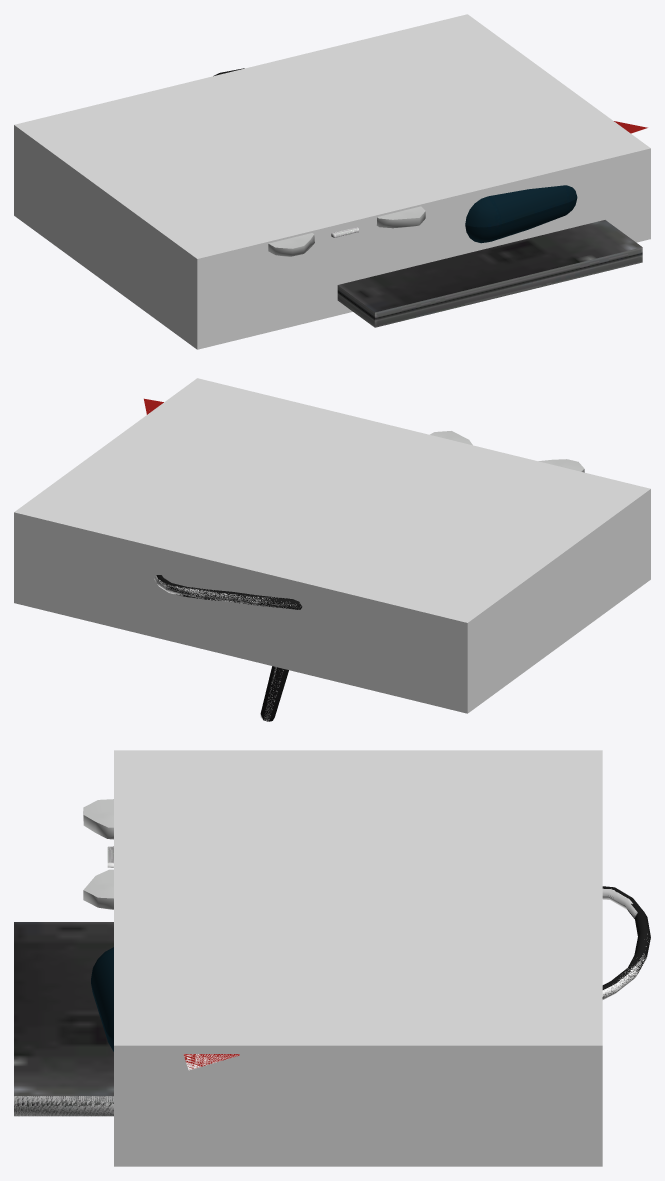
Rendered from pku_blade_pocket_emp.glb.
The picture shows the model from 3 angles, top to bottom: view 1: azimuth 30°, elevation 25°; view 2: azimuth 150°, elevation 25°; view 3: azimuth 270°, elevation 25°; orthographic projection. The views are drawn at different scales.
Visible parts, largest first — view 1: c_box, g_screen, g_sticky; view 2: c_box, g_cable, o_outline, g_antena, g_sticky; view 3: c_box, g_screen, o_outline, g_sticky, g_cable.
Part boxes in pixels (x1=…): c_box: x1=14, y1=14, x2=650, y2=349; g_screen: x1=337, y1=185, x2=642, y2=327; g_sticky: x1=268, y1=206, x2=425, y2=256; c_box: x1=14, y1=378, x2=650, y2=713; g_cable: x1=156, y1=575, x2=302, y2=609; o_outline: x1=154, y1=575, x2=300, y2=721; g_antena: x1=260, y1=666, x2=288, y2=721; g_sticky: x1=430, y1=431, x2=584, y2=472; c_box: x1=114, y1=750, x2=602, y2=1166; g_screen: x1=14, y1=922, x2=113, y2=1116; o_outline: x1=14, y1=847, x2=648, y2=1116; g_sticky: x1=83, y1=799, x2=113, y2=909; g_cable: x1=602, y1=886, x2=650, y2=998.
Size of what is drawn, in the model's own units: 0.3797 by 0.1307 by 0.3279.
3 materials, 1 textured.
